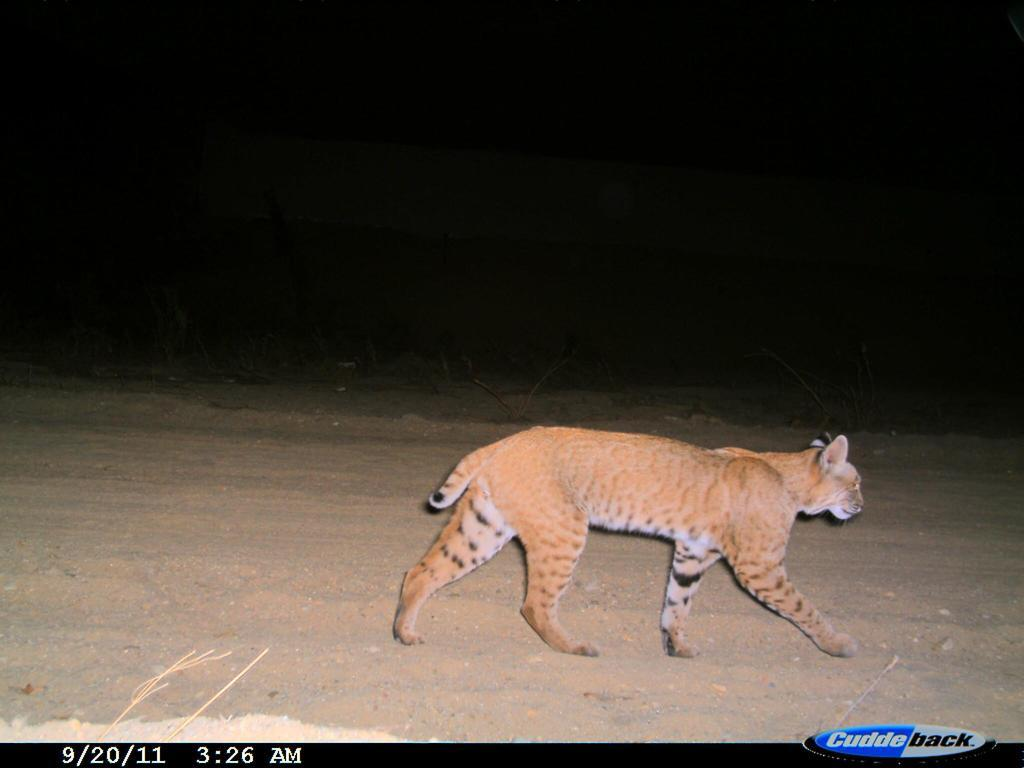bobcat: (395, 425, 862, 666)
